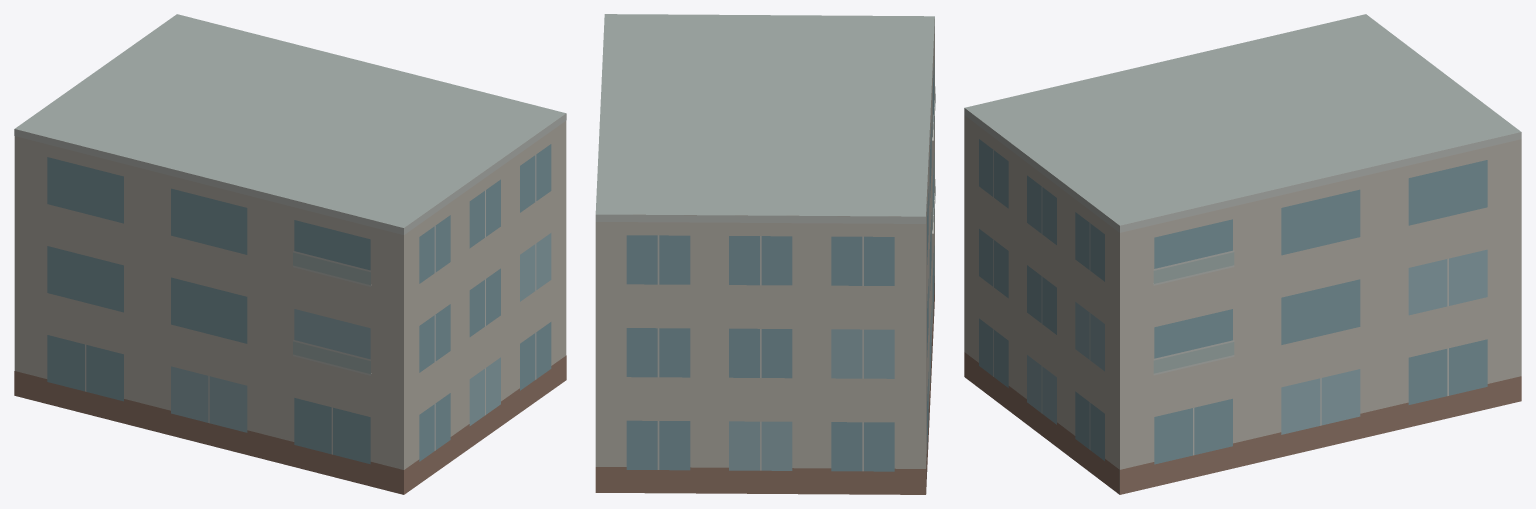
File: survey-upis-32706434.glb
The picture shows the model from 3 angles, left to right: view 1: azimuth 30°, elevation 25°; view 2: azimuth 150°, elevation 25°; view 3: azimuth 270°, elevation 25°; orthographic projection. The views are drawn at different scales.
Parts seen in each view (by area): view 1: survey-upis-32706434.tmp; view 2: survey-upis-32706434.tmp; view 3: survey-upis-32706434.tmp.
Part boxes in pixels (x1,y1,x2,y2): survey-upis-32706434.tmp: (14,14,566,494); survey-upis-32706434.tmp: (595,14,935,494); survey-upis-32706434.tmp: (964,14,1521,494).
Bounding box in the file's own units: 15.45 × 9.15 × 17.17.
